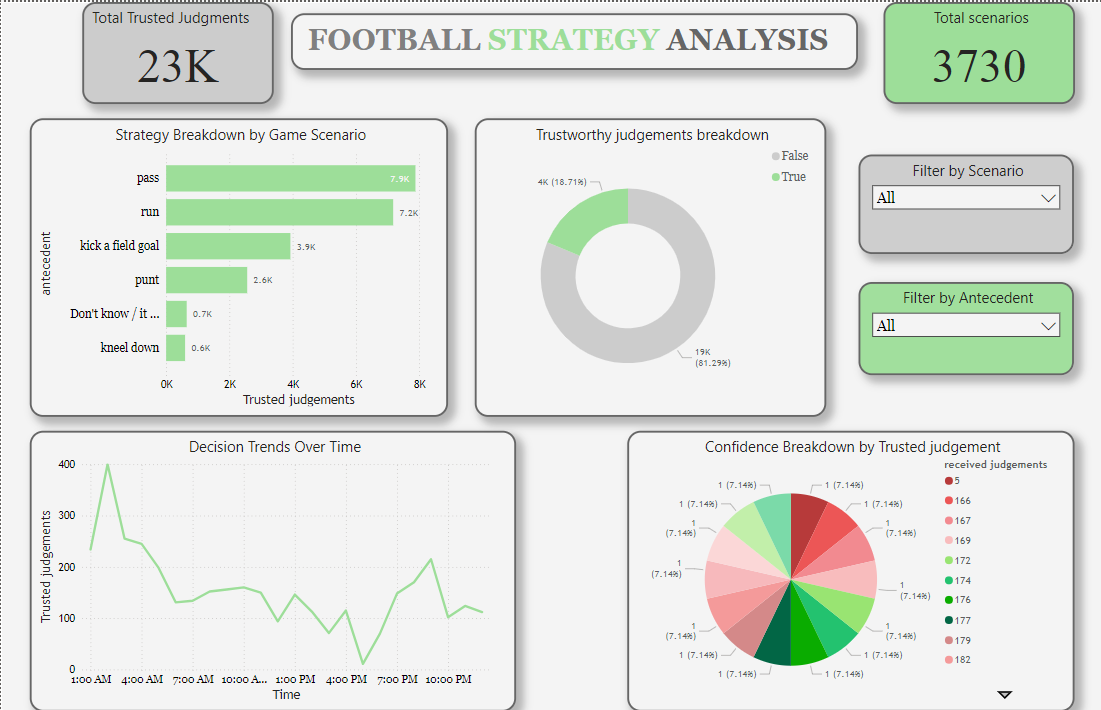

Layout of this report page (visuals, bound fields, positions):
{"tool":"powerbi","page":{"name":"Page 1","canvas":[1400,900],"ordinal":0},"visuals":[{"type":"clusteredBarChart","title":"Strategy Breakdown by Game Scenario ","fields":{"Category":["Football-Scenarios-DFE-832307.antecedent"],"Y":["Sum(Football-Scenarios-DFE-832307._trusted_judgments)"]},"box":[36.8,147.2,531.2,379.2],"z":0},{"type":"lineChart","title":"Decision Trends Over Time","fields":{"Y":["CountNonNull(Football-Scenarios-DFE-832307._trusted_judgments)"],"Category":["Football-Scenarios-DFE-832307._last_judgment_at_time"]},"box":[36.8,544,617.6,356.8],"z":1000},{"type":"card","title":"Total Trusted Judgments","fields":{"Values":["Sum(Football-Scenarios-DFE-832307._trusted_judgments)"]},"box":[102.4,0,243.2,129.6],"z":2000},{"type":"donutChart","title":"Trustworthy judgements breakdown","fields":{"Category":["Football-Scenarios-DFE-832307._golden"],"Y":["Sum(Football-Scenarios-DFE-832307._trusted_judgments)"]},"box":[601.6,147.2,446.4,379.2],"z":3000},{"type":"card","title":"Total scenarios","fields":{"Values":["CountNonNull(Football-Scenarios-DFE-832307.orig_antecedent)"]},"box":[1120,0,243.2,129.6],"z":4000},{"type":"slicer","title":"Filter by Antecedent","fields":{"Values":["Football-Scenarios-DFE-832307.antecedent"]},"box":[1089.6,355.2,273.6,118.4],"z":5000},{"type":"slicer","title":"Filter by Scenario","fields":{"Values":["Football-Scenarios-DFE-832307.orig_antecedent"]},"box":[1089.6,193.6,273.6,126.4],"z":6000},{"type":"textbox","box":[368.8,14.1,720.3,71.9],"z":7000},{"type":"pieChart","title":"Confidence Breakdown by Trusted judgement ","fields":{"Category":["Football-Scenarios-DFE-832307._trusted_judgments"],"Y":["Max(Football-Scenarios-DFE-832307.antecedent:confidence)"]},"box":[795.2,544,568,356.8],"z":8000}]}

Visuals, with their boxes in screenshot pixels (x1, y1, x2, y2), scaled from the page's 1400x900 canvas onto the 1101x710 screenshot:
"Strategy Breakdown by Game Scenario " clusteredBarChart: l=29, t=116, r=447, b=415
"Decision Trends Over Time" lineChart: l=29, t=429, r=515, b=709
"Total Trusted Judgments" card: l=81, t=0, r=272, b=102
"Trustworthy judgements breakdown" donutChart: l=473, t=116, r=824, b=415
"Total scenarios" card: l=881, t=0, r=1072, b=102
"Filter by Antecedent" slicer: l=857, t=280, r=1072, b=374
"Filter by Scenario" slicer: l=857, t=153, r=1072, b=252
textbox: l=290, t=11, r=856, b=68
"Confidence Breakdown by Trusted judgement " pieChart: l=625, t=429, r=1072, b=709
